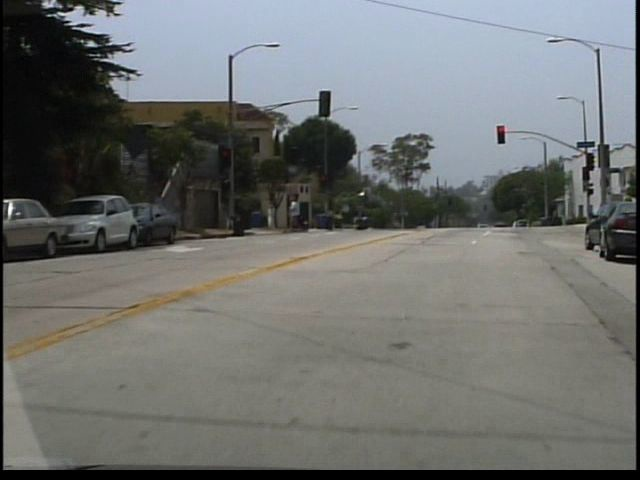person: (292, 198, 306, 235), (272, 203, 282, 233)
